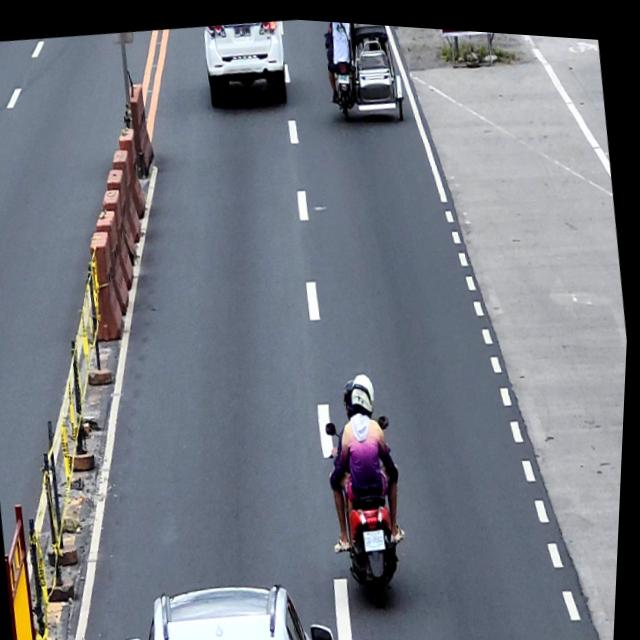Car: (115, 561, 346, 640), (200, 13, 296, 109)
License-Plate: (365, 520, 392, 547), (233, 20, 252, 36), (337, 67, 351, 81)
Motorcycle: (320, 404, 423, 609)
Tricycle: (318, 17, 410, 124)
